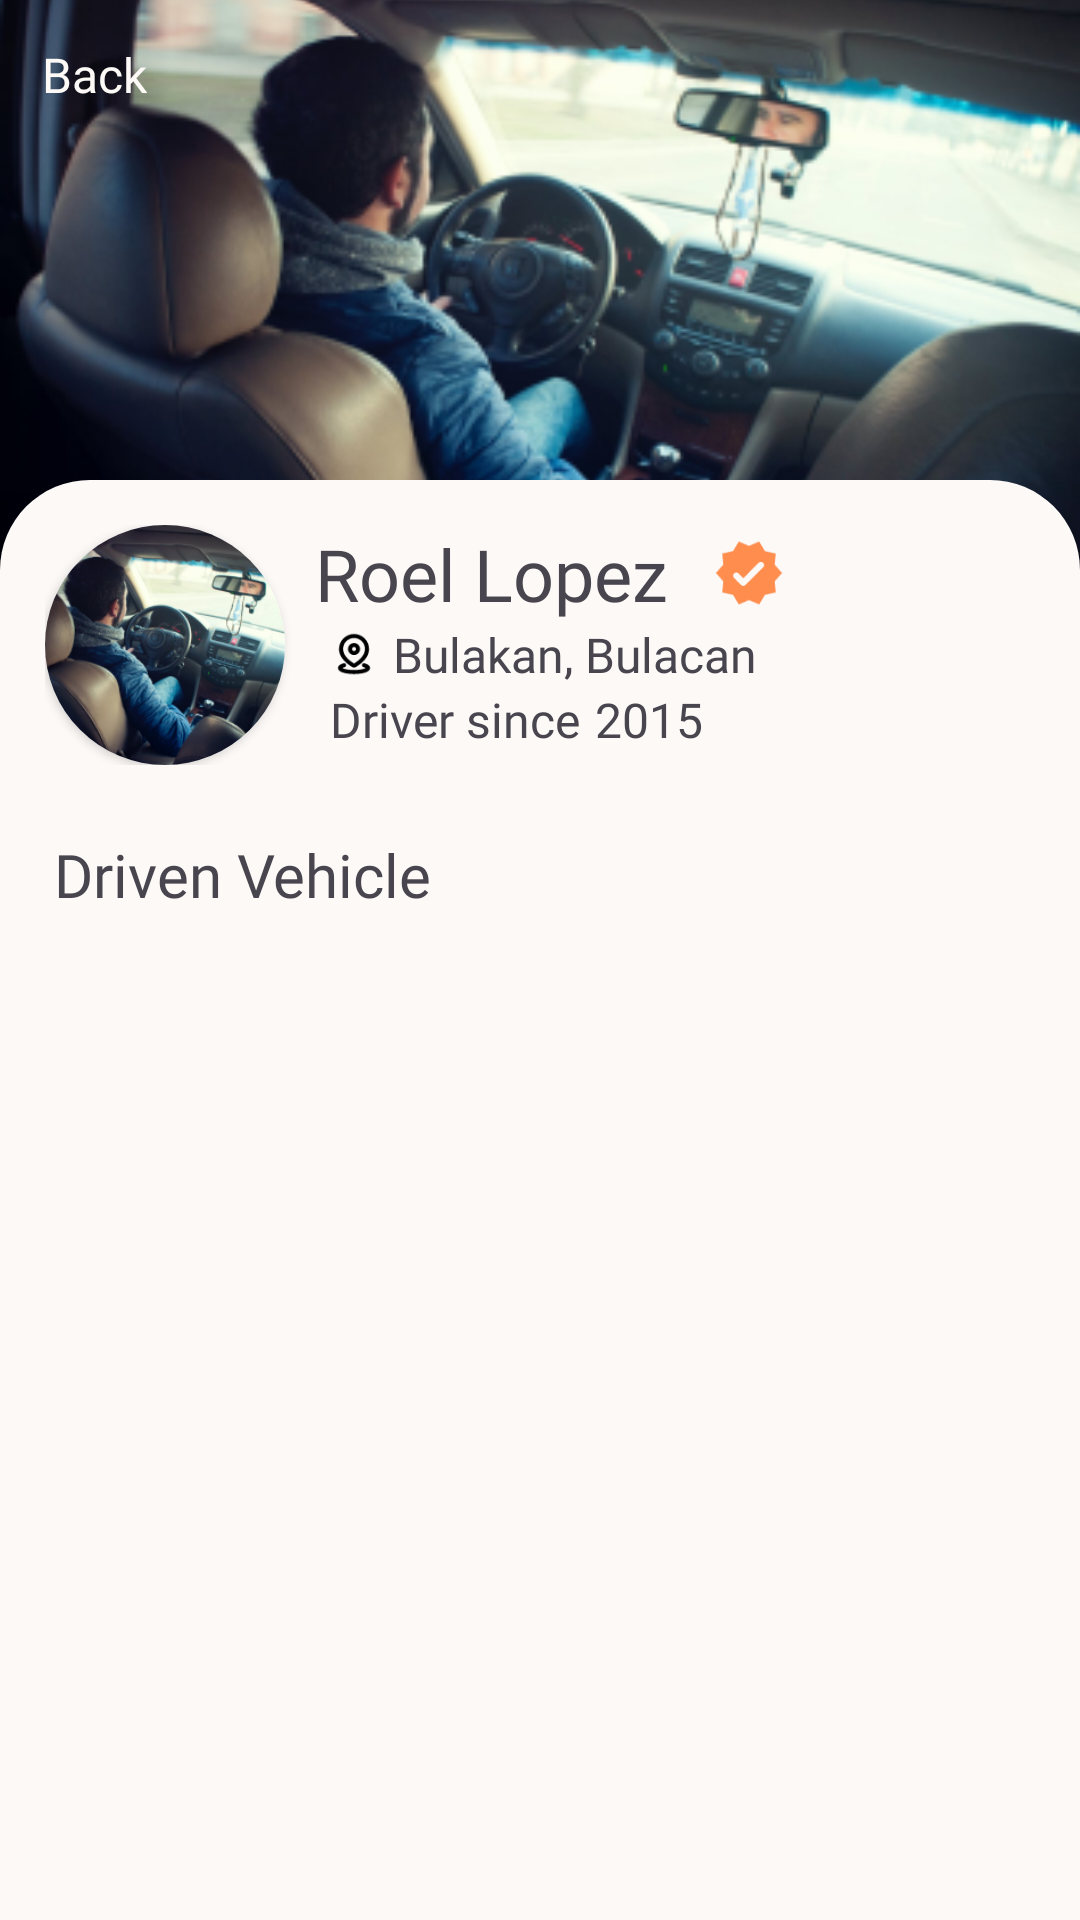

Icon click points for this 1080px x 1920px phone screenshot, format (x,y):
locicon: (354,654)
verified: (749,573)
